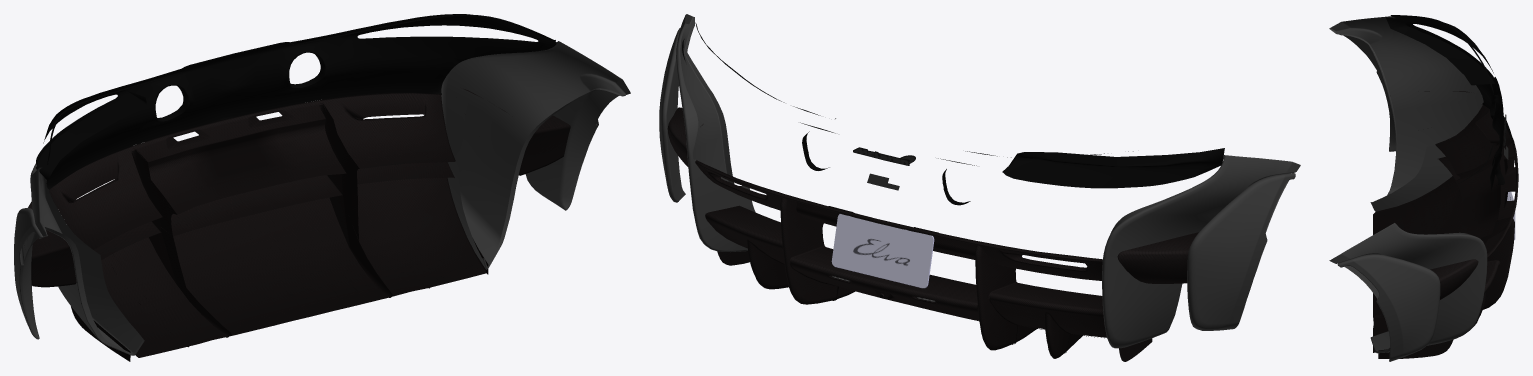
File: bumper_r.glb
3 views of the same model, side by side, from view 1: azimuth 30°, elevation 25°; view 2: azimuth 150°, elevation 25°; view 3: azimuth 270°, elevation 25° (orthographic). The views are drawn at different scales.
Visible parts, largest first — view 1: ManufacturerPlate_Geo_lodA_McLaren_Elva_2021ManufacturerPlat, body:Kit0_Paint_Geo_lodABody_lodA_McLaren_Elva_2021Paint_Ma.; view 2: ManufacturerPlate_Geo_lodA_McLaren_Elva_2021ManufacturerPlat (×2), body:Kit0_Paint_Geo_lodABody_lodA_McLaren_Elva_2021Paint_Ma. (×2); view 3: body:Kit0_Paint_Geo_lodABody_lodA_McLaren_Elva_2021Paint_Ma., ManufacturerPlate_Geo_lodA_McLaren_Elva_2021ManufacturerPlat.
Part boxes in pixels (x1,y1,x2,y2): ManufacturerPlate_Geo_lodA_McLaren_Elva_2021ManufacturerPlat: (24,14,570,361); body:Kit0_Paint_Geo_lodABody_lodA_McLaren_Elva_2021Paint_Ma.: (14,41,630,355); ManufacturerPlate_Geo_lodA_McLaren_Elva_2021ManufacturerPlat (×2): (667,22,1224,361); body:Kit0_Paint_Geo_lodABody_lodA_McLaren_Elva_2021Paint_Ma. (×2): (659,14,1300,348); body:Kit0_Paint_Geo_lodABody_lodA_McLaren_Elva_2021Paint_Ma.: (1329,16,1487,361); ManufacturerPlate_Geo_lodA_McLaren_Elva_2021ManufacturerPlat: (1373,15,1518,358).
Size of the model in its own units: 0.0193 by 0.007 by 0.0066.
8 materials, 5 textured.
